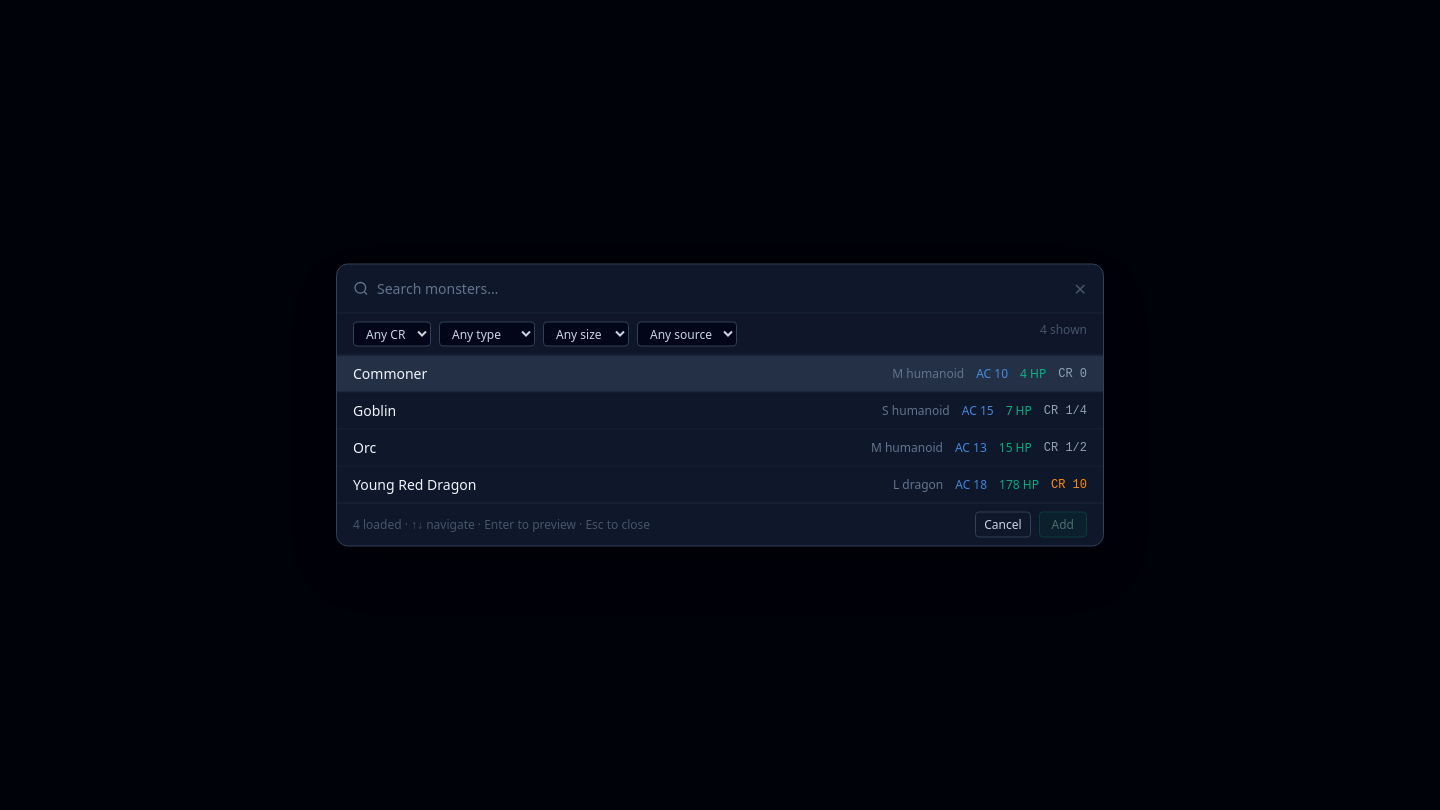
Scenario: MonsterPicker › preview falls back to summary line when no data field is supplied
Click the text "Orc". click: (365, 447)
box: x1=353 y1=438 x2=376 y2=456
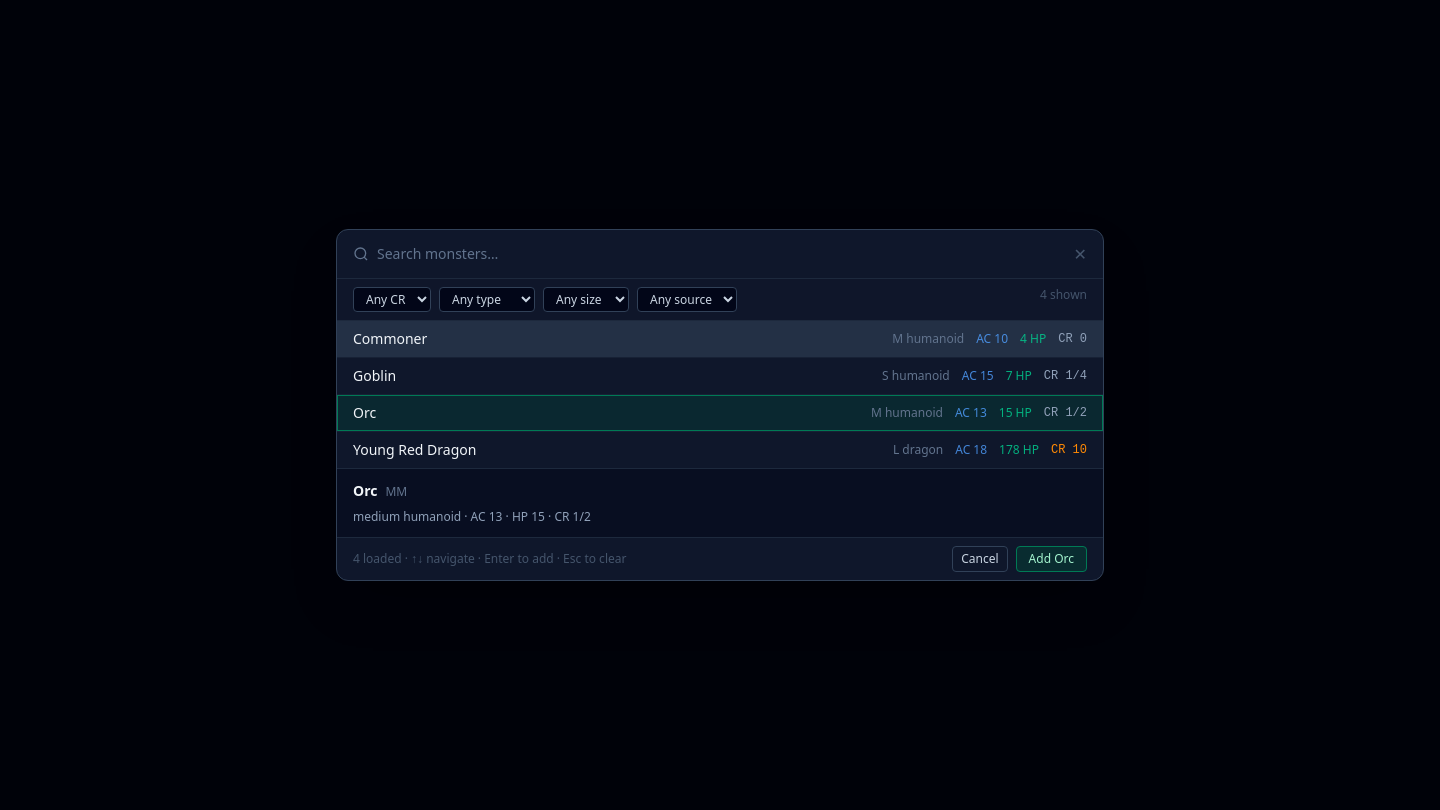
Check: the text "AC 13" is shown, box x1=955 y1=405 x2=987 y2=421
Check: the text "medium humanoid · AC 13 · HP 15 · CR 1/2" is shown, box x1=353 y1=508 x2=591 y2=525
